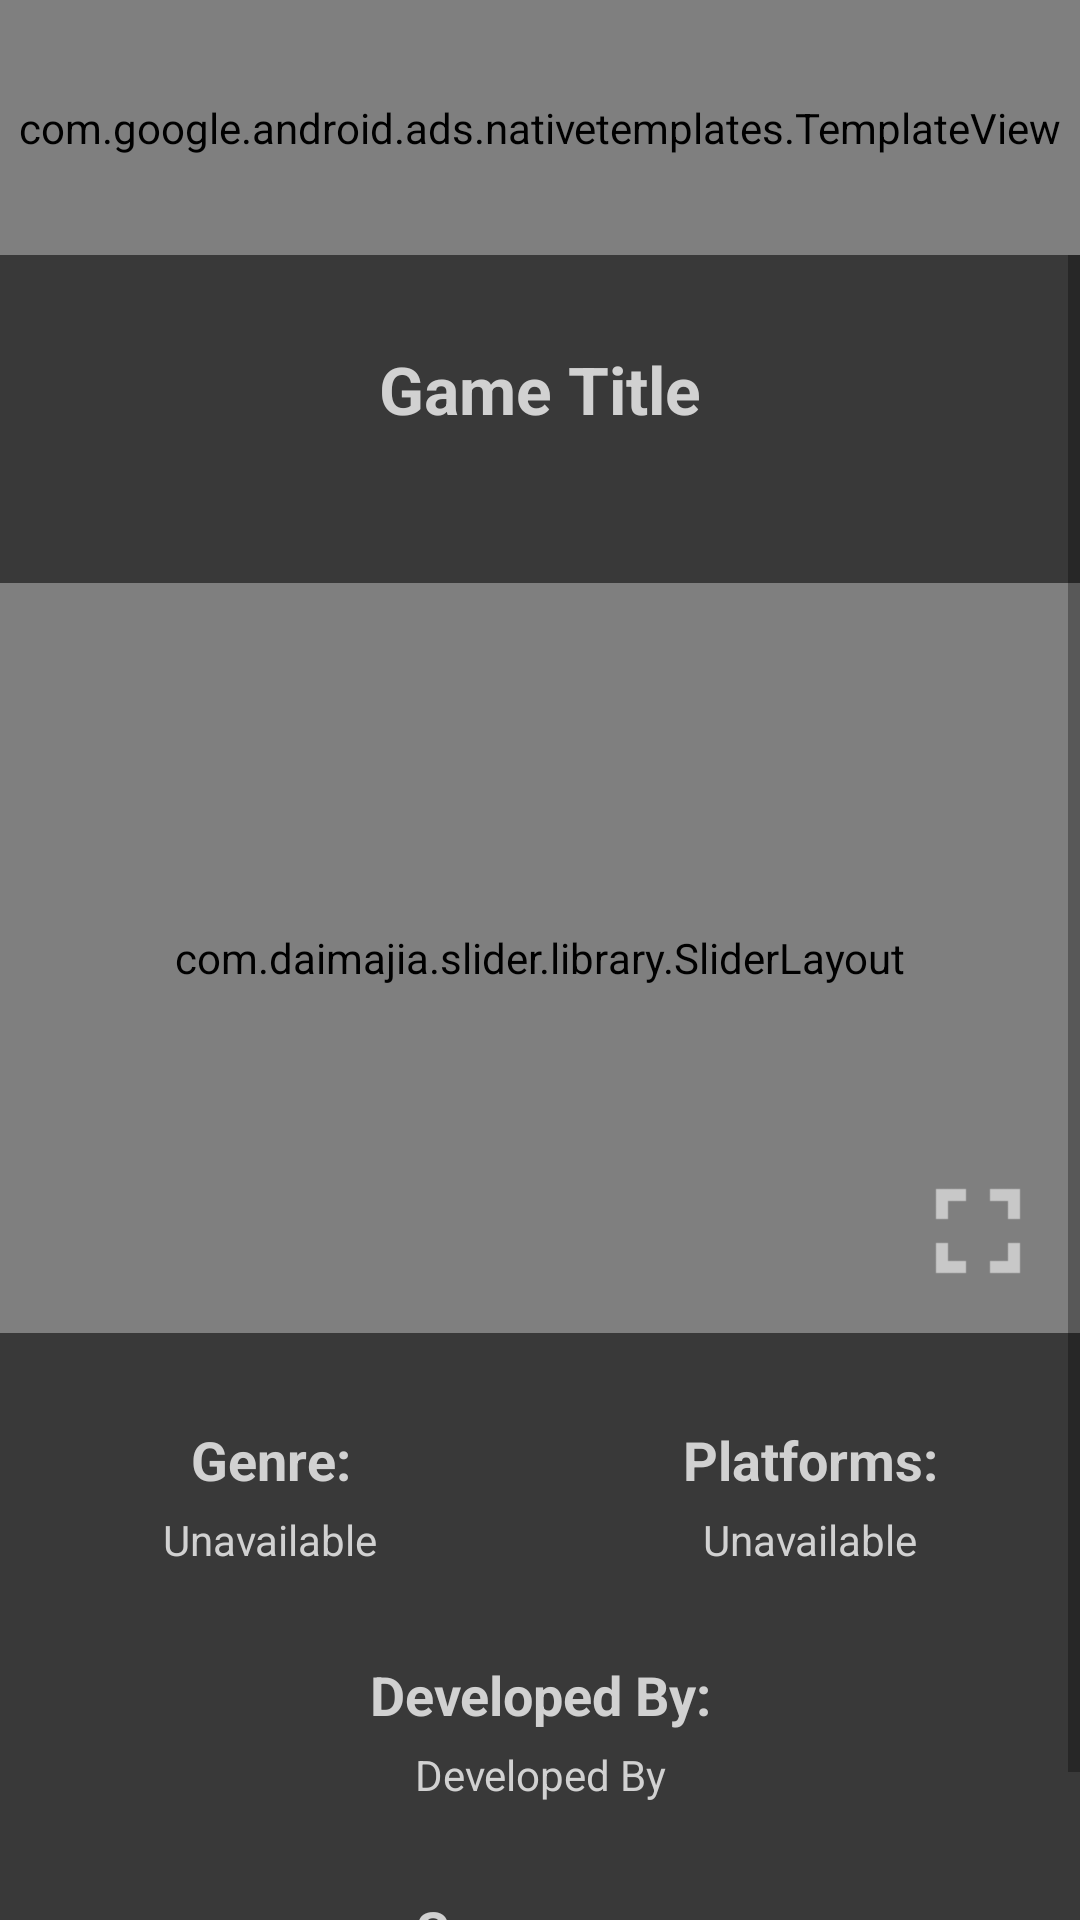

Locate icon controls on the screen. Image size 1080px×1920px, boxes as (x1, y1, x2, y2).
fullscreen: (936, 1189, 1020, 1273)
